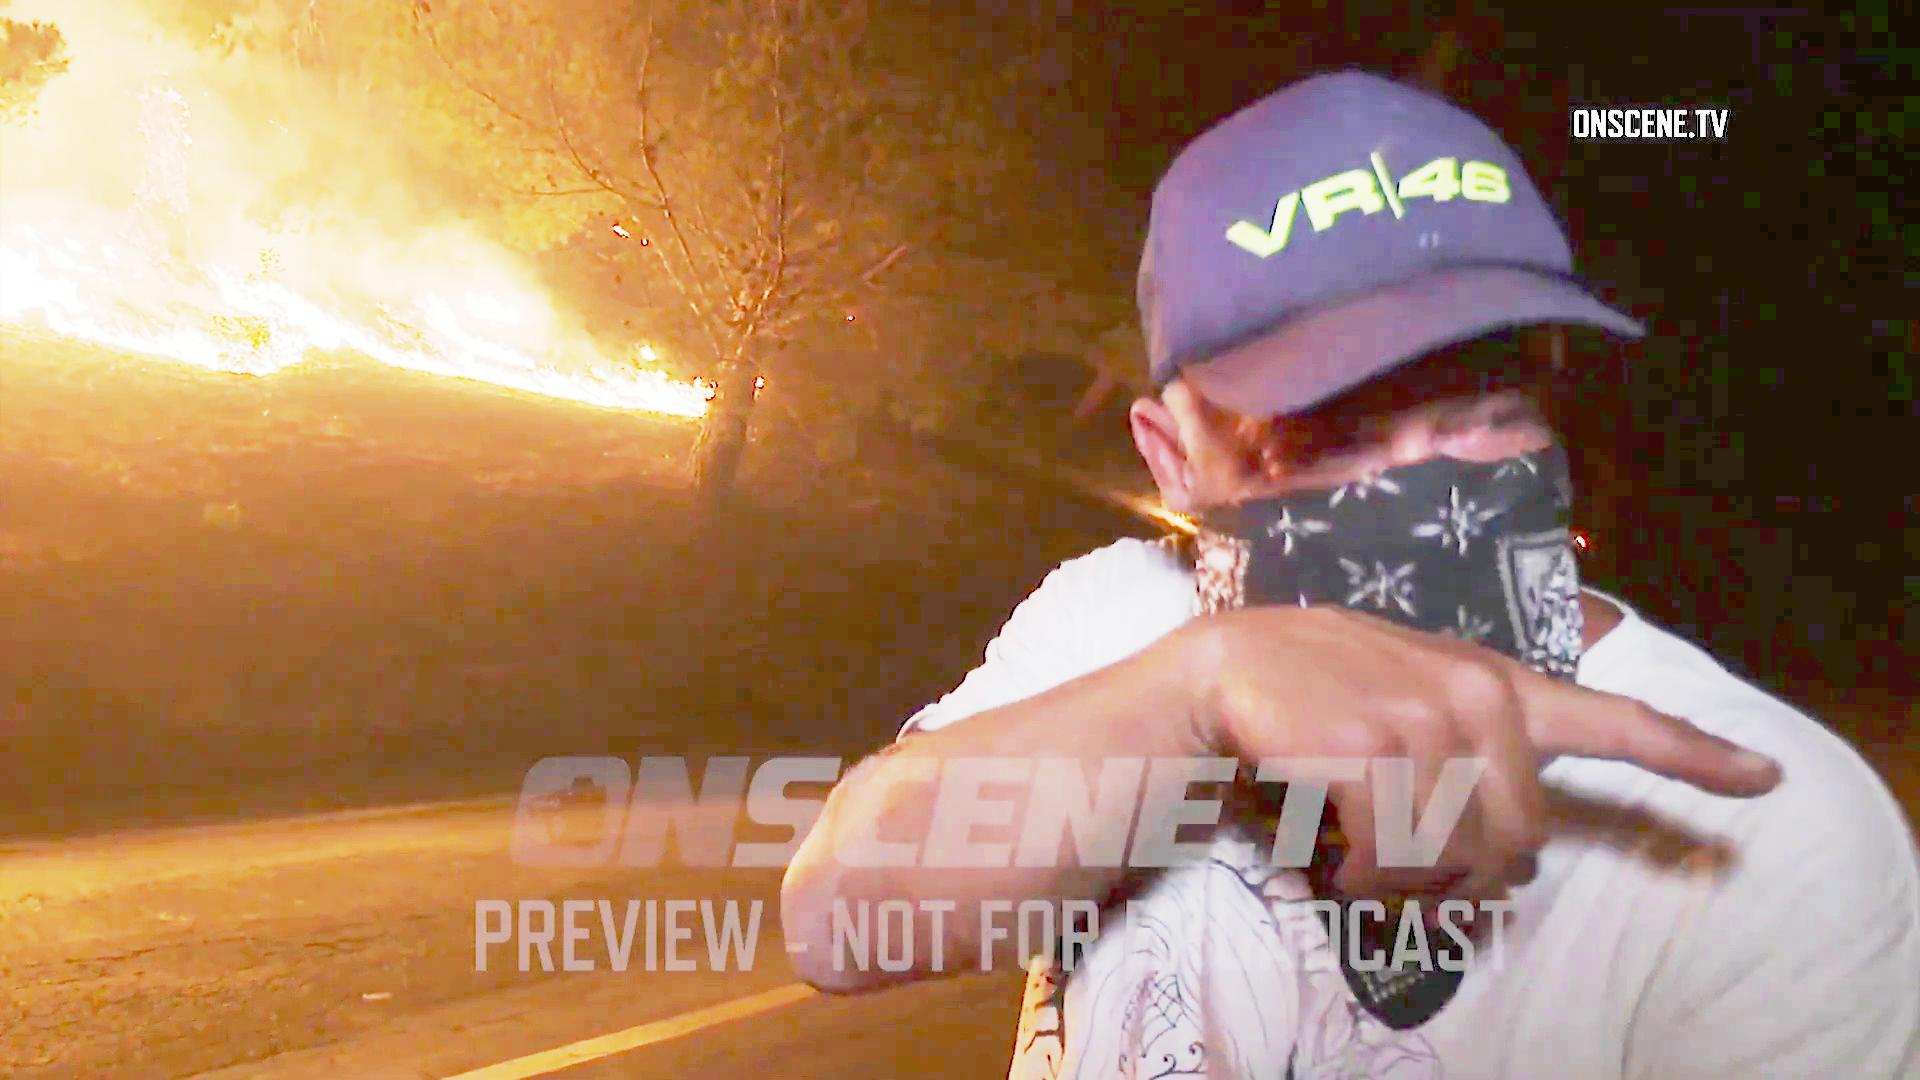fire: (0, 220, 186, 363), (407, 278, 545, 406)
